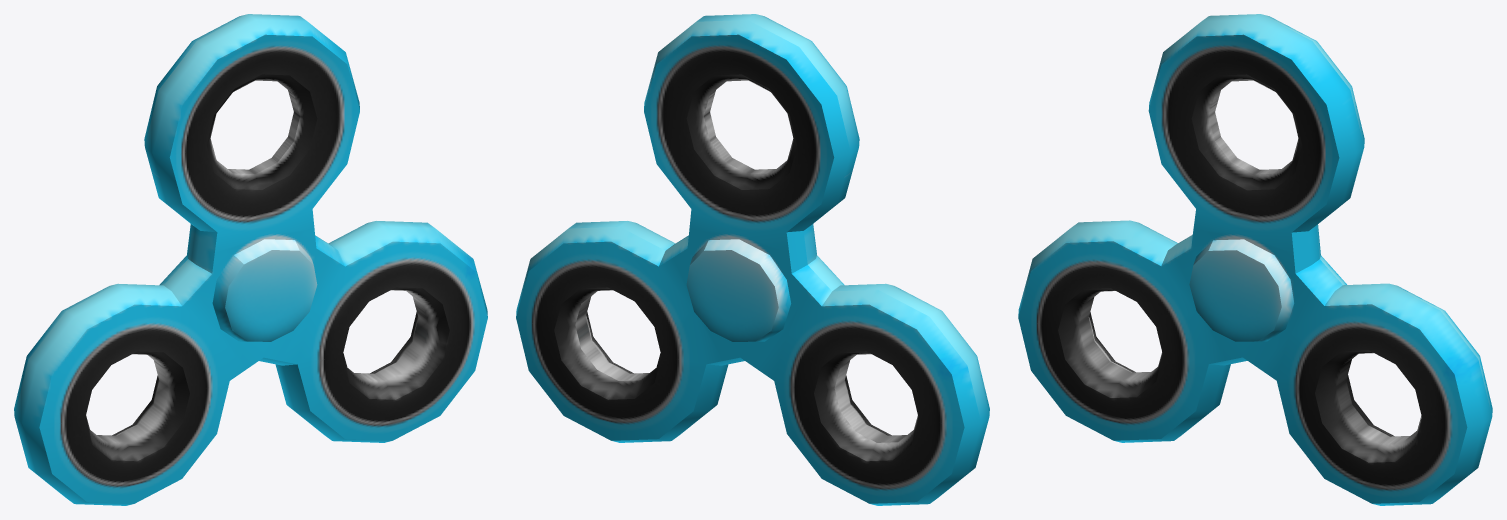
The model's file is spinner.FBX.
The picture shows the model from 3 angles, left to right: view 1: azimuth 30°, elevation 25°; view 2: azimuth 150°, elevation 25°; view 3: azimuth 330°, elevation 25°; orthographic projection.
Visible parts, largest first — view 1: Object006; view 2: Object006; view 3: Object006.
Boxes of the visible parts, x1,y1,x2,y2 form: Object006: (14,14,487,505); Object006: (516,14,989,505); Object006: (1018,14,1492,505).
Size of the model in its own units: 301 by 282 by 45.13.
